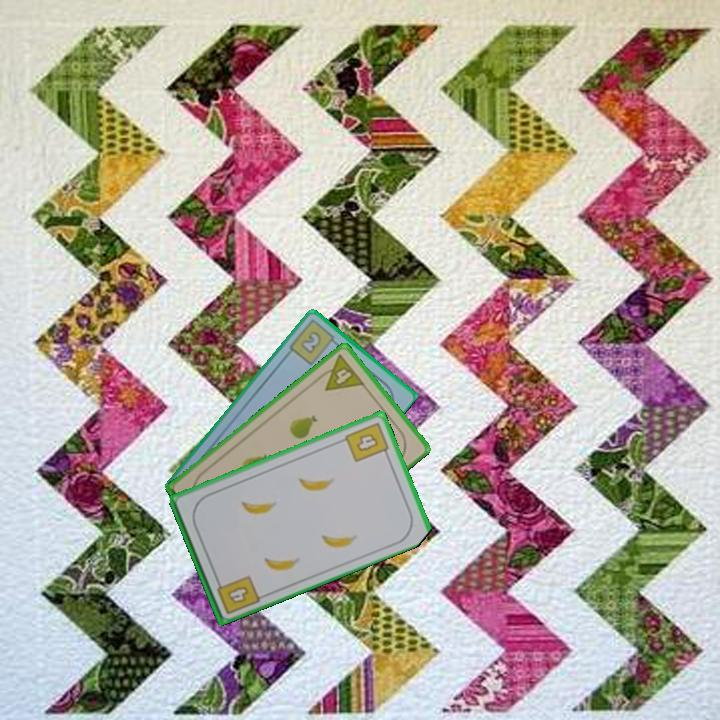2b: (285, 316, 342, 368)
4b: (341, 418, 392, 465), (212, 572, 262, 617)
4p: (313, 351, 367, 394)
